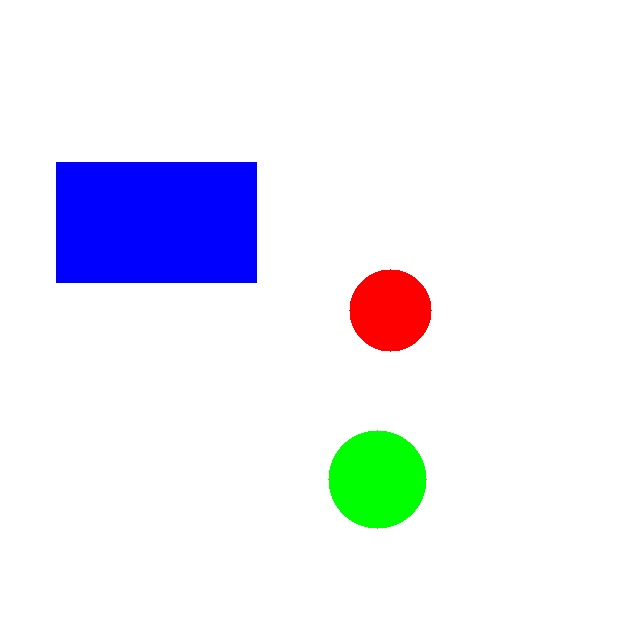cartao: (56, 162, 256, 282)
rosca_externa: (328, 430, 426, 528)
rosca_interna: (349, 269, 431, 351)
